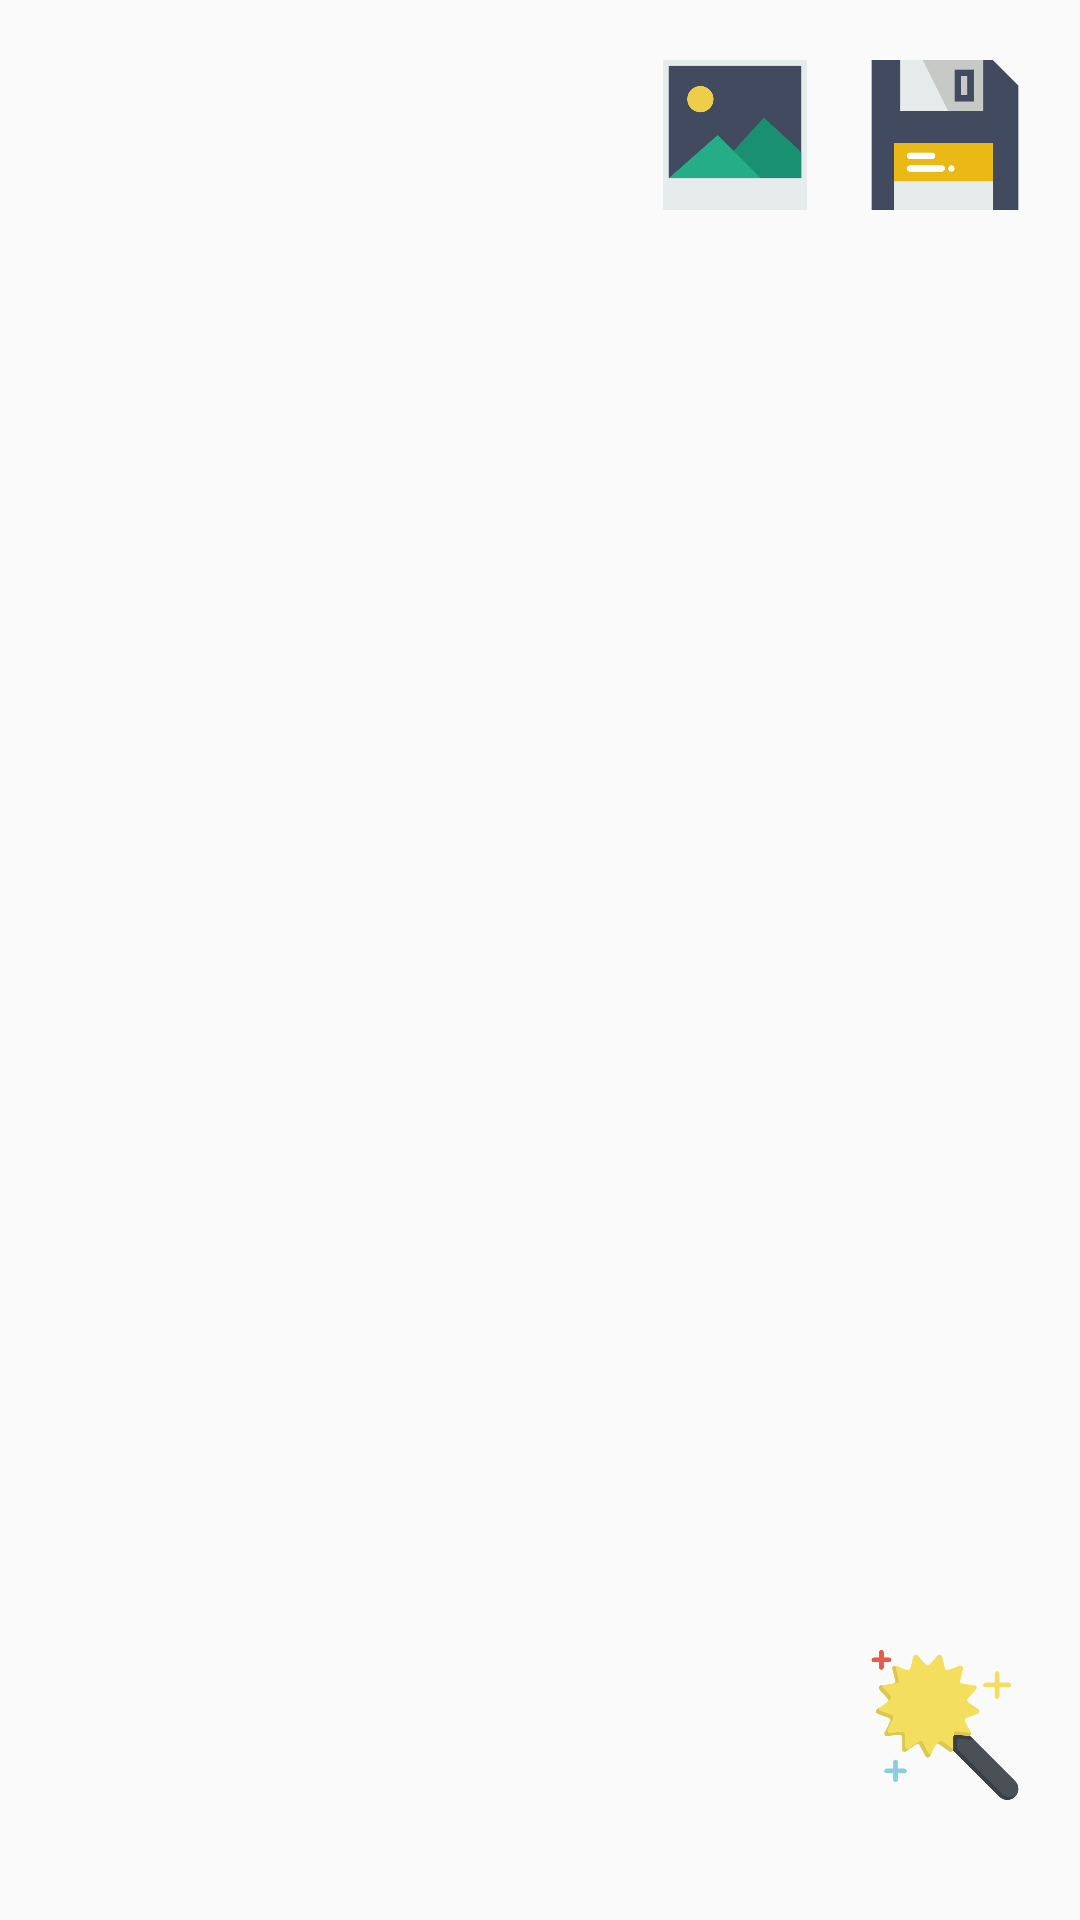

Named icons in this screenshot (1080*1920) and their bounding boxes, (x1, y1, x2, y2):
res effect: (871, 1650, 1019, 1800)
res gallery: (668, 65, 802, 179)
res save: (871, 60, 1019, 210)
